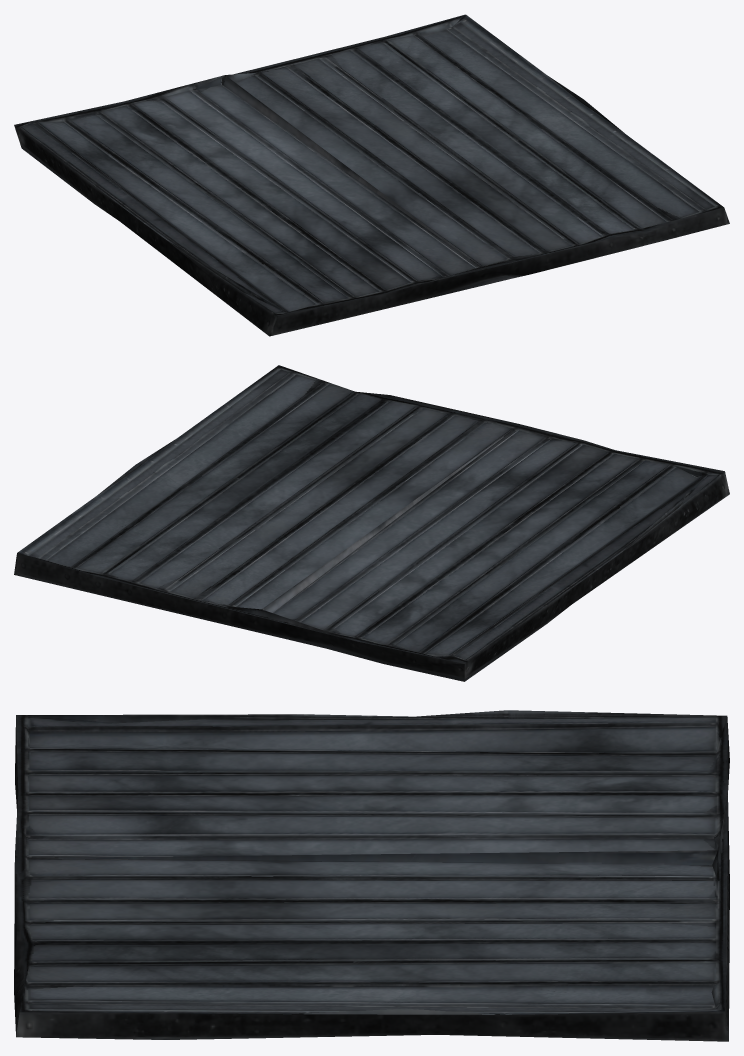
File: roof-assembly.glb
The picture shows the model from 3 angles, top to bottom: view 1: azimuth 30°, elevation 25°; view 2: azimuth 150°, elevation 25°; view 3: azimuth 270°, elevation 25°; orthographic projection. The views are drawn at different scales.
Parts seen in each view (by area): view 1: roof-assembly; view 2: roof-assembly; view 3: roof-assembly.
Part boxes in pixels (<box>): roof-assembly: <box>14,14,729,336</box>; roof-assembly: <box>14,365,729,681</box>; roof-assembly: <box>14,710,729,1041</box>.
Size of the model in its own units: 4 by 0.22 by 4.
Materials: 1 (1 with a texture image).
